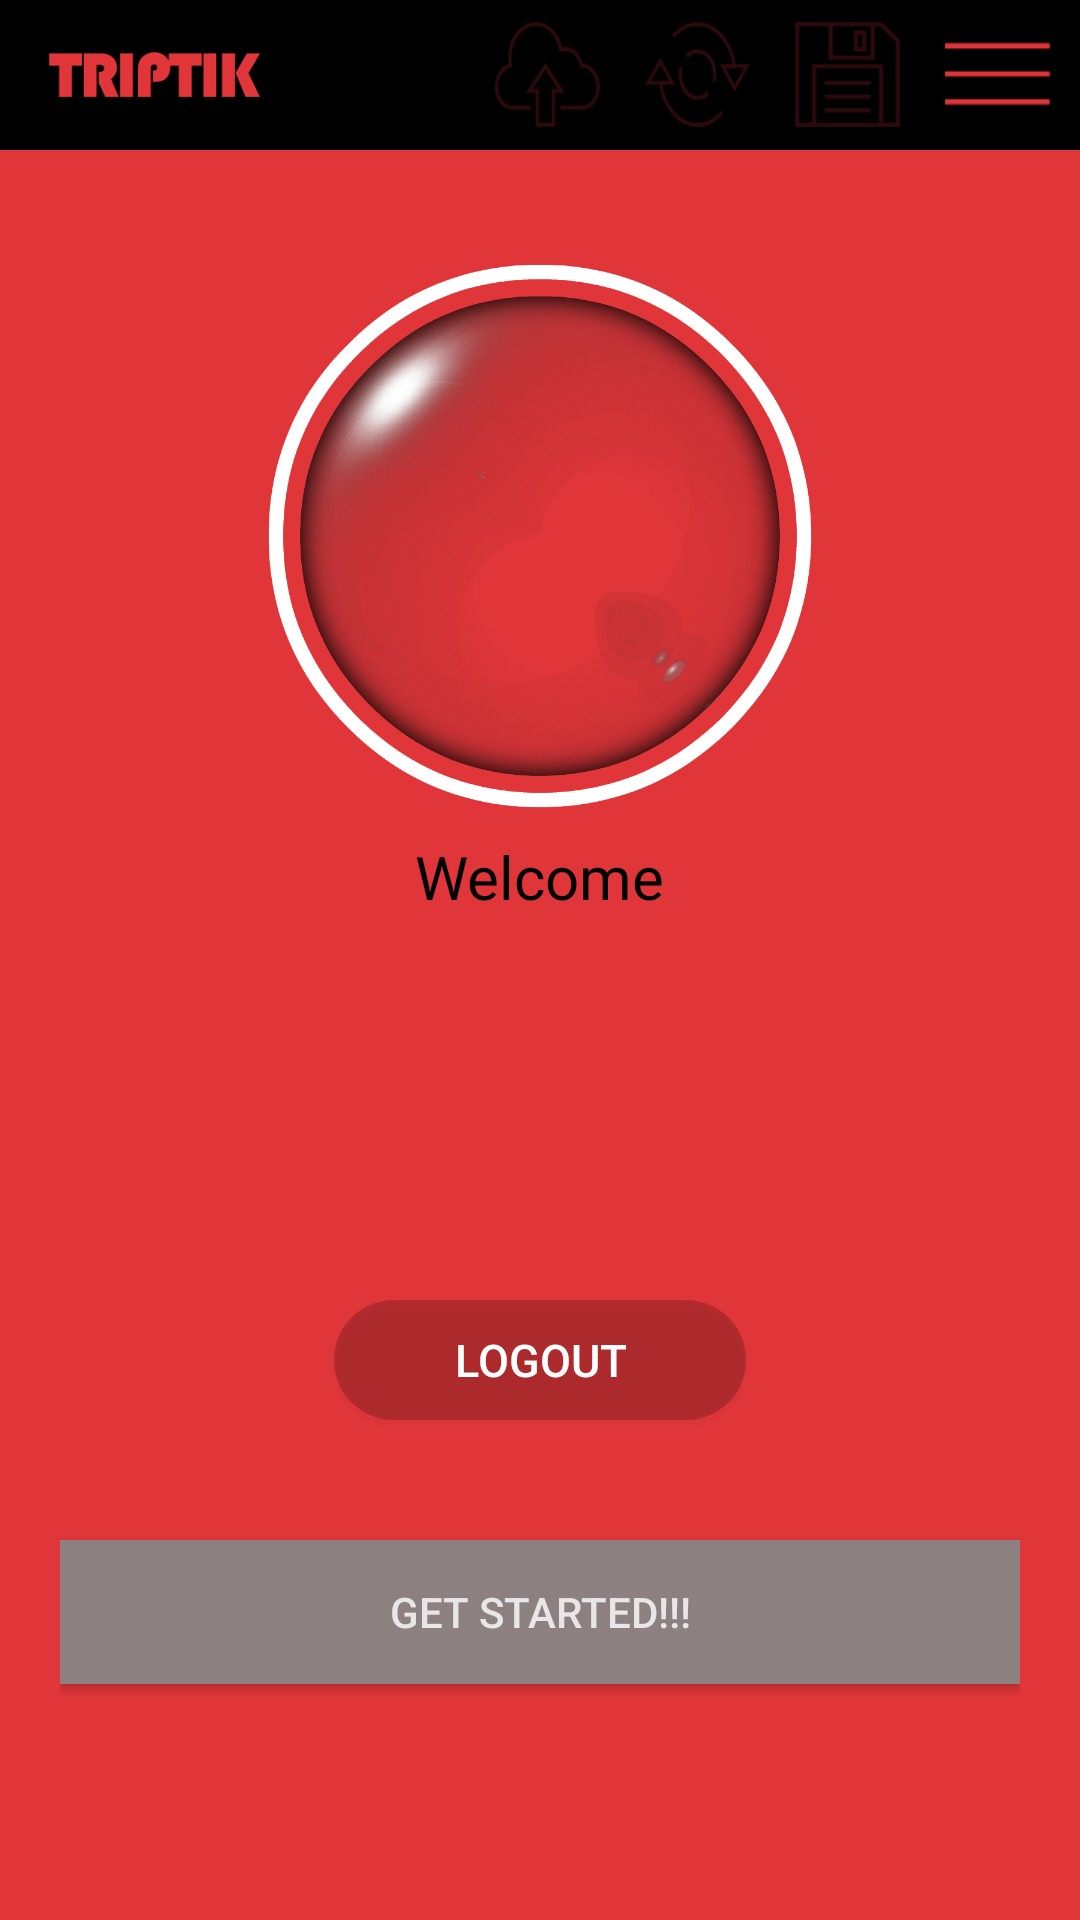

Screen size 1080×1920. Icon name, then its center in pixels as point (x, y):
menu: point (997, 74)
publish: point (547, 74)
save: point (847, 74)
update: point (697, 74)
